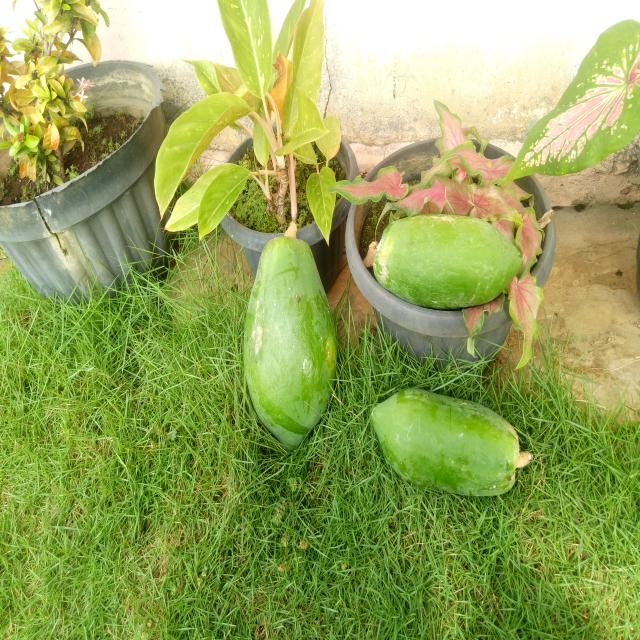Pepaya unrippen: (353, 371, 534, 513), (242, 228, 338, 441), (367, 216, 528, 318)
